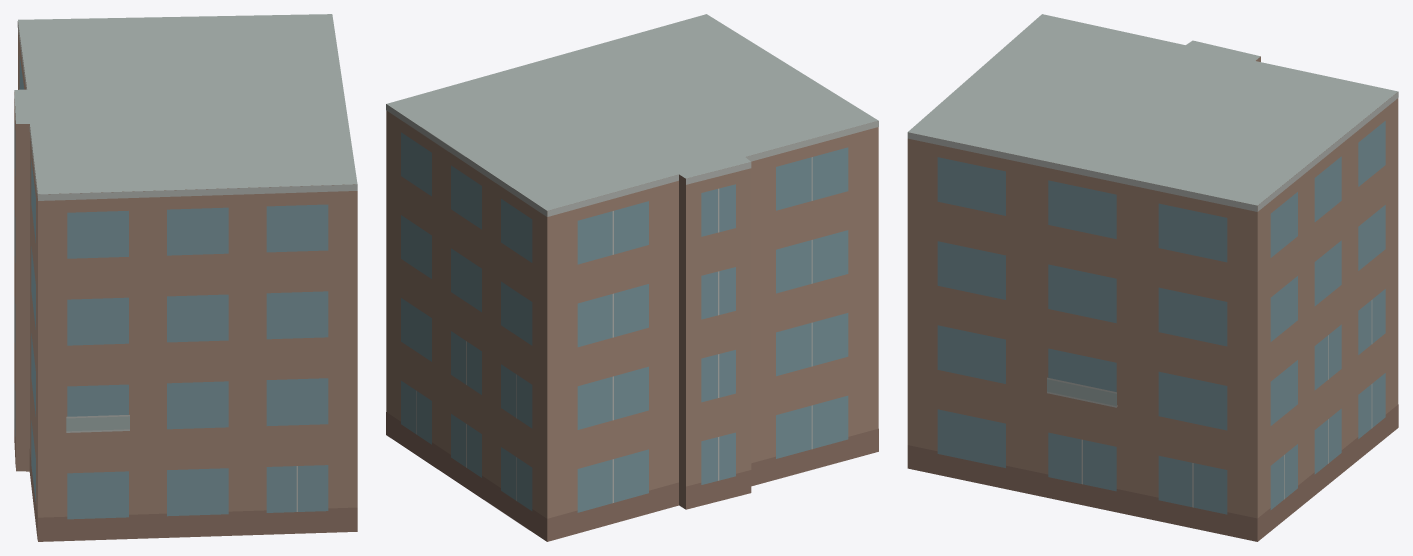
The model's file is survey-upis-32629434.glb.
3 renders of one model, left to right at view 1: azimuth 30°, elevation 25°; view 2: azimuth 150°, elevation 25°; view 3: azimuth 270°, elevation 25°, orthographic. The views are drawn at different scales.
Visible parts, largest first — view 1: survey-upis-32629434.tmp; view 2: survey-upis-32629434.tmp; view 3: survey-upis-32629434.tmp.
Part boxes in pixels (x1,y1,x2,y2): survey-upis-32629434.tmp: (14,14,357,541); survey-upis-32629434.tmp: (386,14,878,541); survey-upis-32629434.tmp: (907,14,1398,541).
Size of the model in its own units: 15.77 by 12.9 by 17.07.
